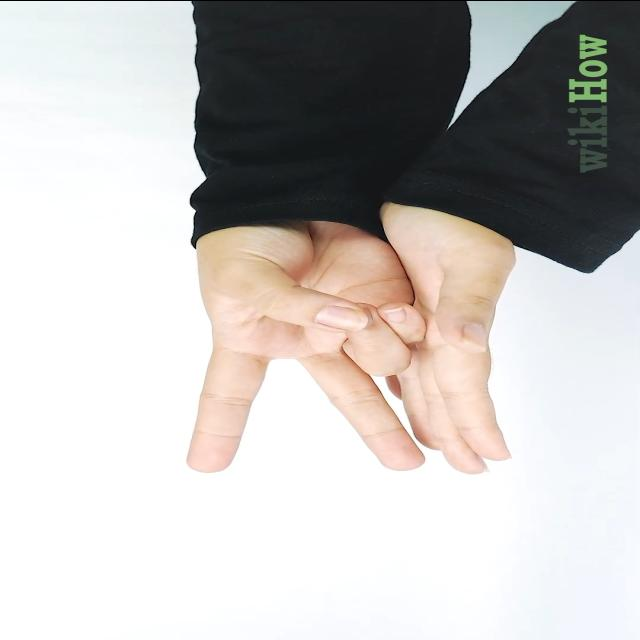Scissors: (185, 224, 427, 472)
